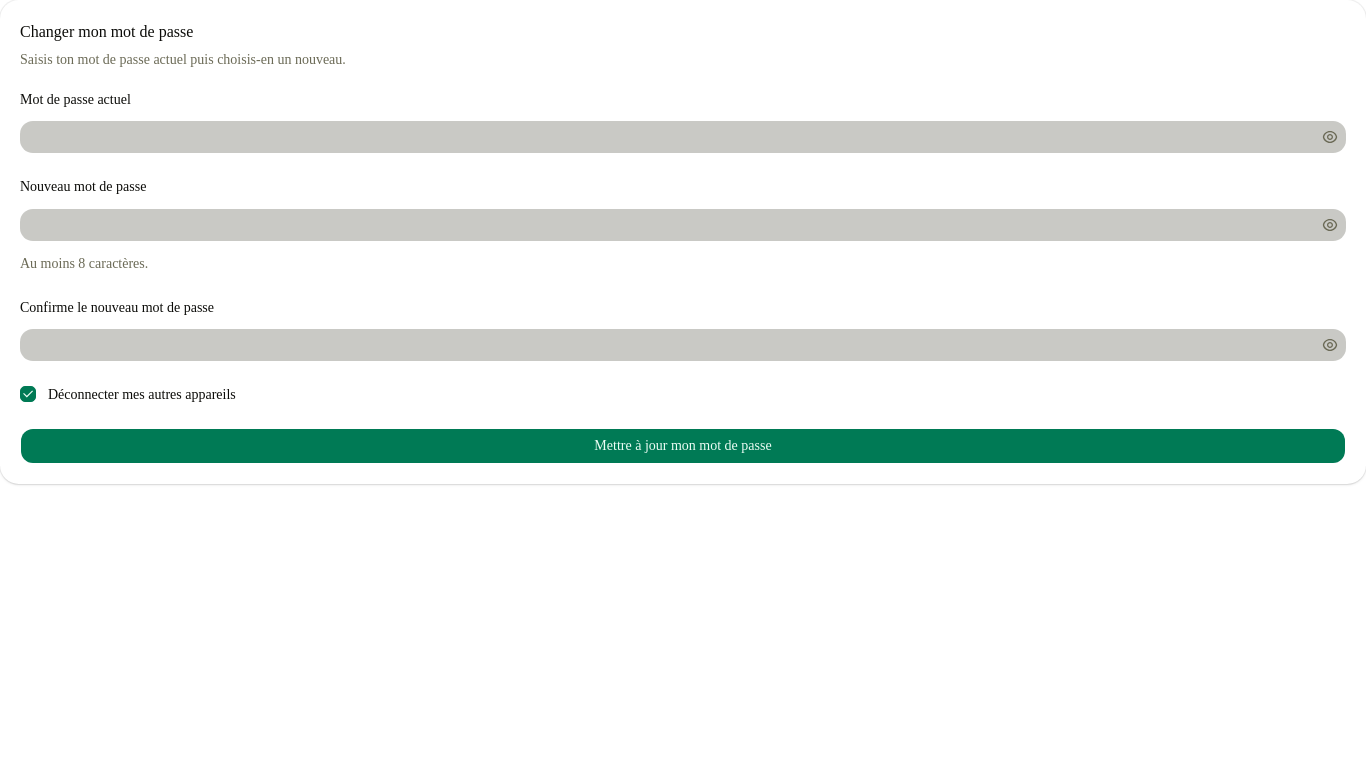
it: ChangePasswordForm › shows field-level errors for empty fields and does not submit
The image size is (1366, 768).
Click the button "Mettre à jour mon mot de passe": (683, 446) [20,428,1346,464]
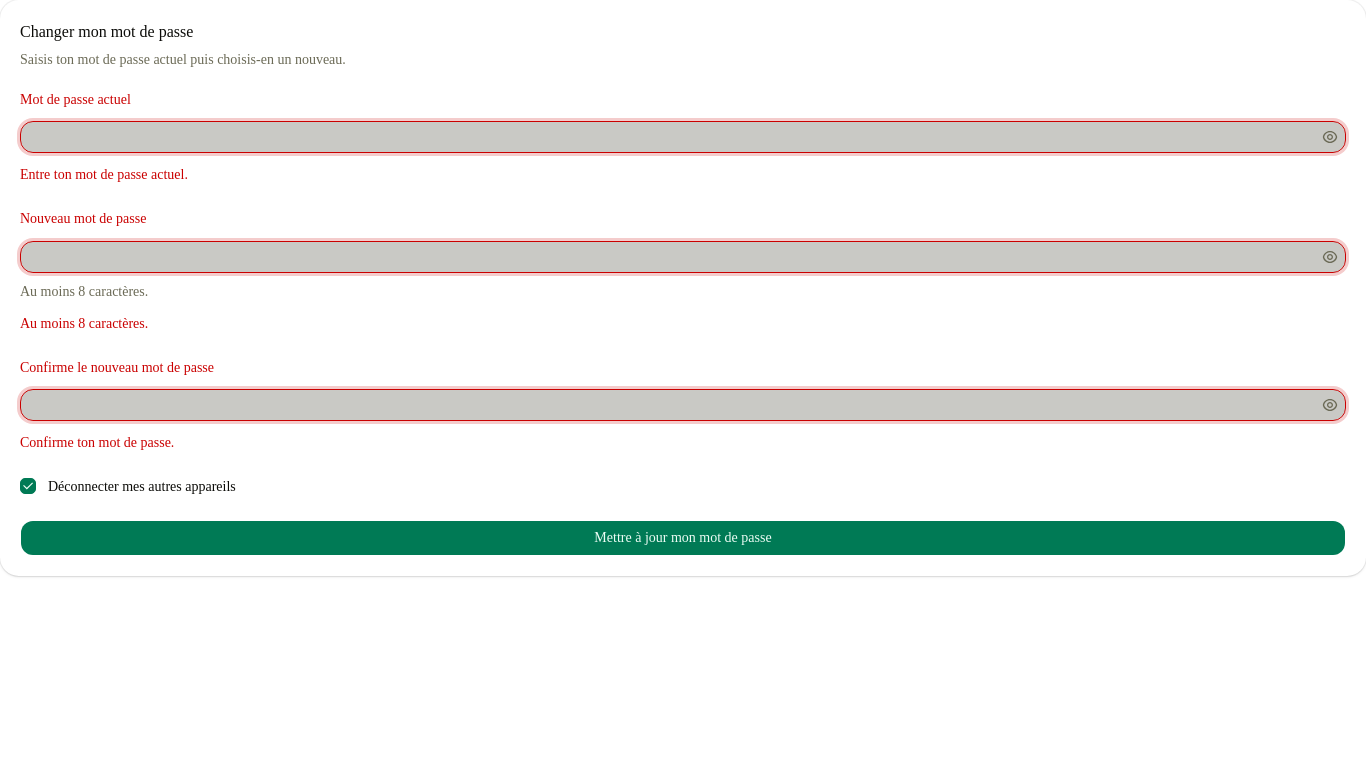
Check: the text "Au moins 8 caractères." is shown, box [20,284,148,298]
Check: the message "Entre ton mot de passe actuel." is shown, box [20,167,188,182]
Check: the message "Confirme ton mot de passe." is shown, box [20,435,174,450]
